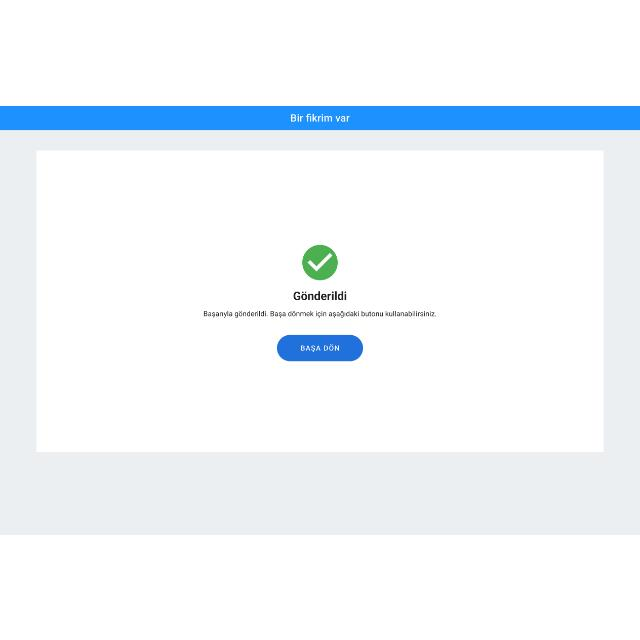QLabel: (202, 309, 438, 317), (292, 290, 348, 302), (288, 113, 350, 123), (298, 343, 340, 353)
VAppBar: (0, 105, 640, 128)
VBtn: (276, 334, 364, 361)
VCard: (36, 150, 604, 452)
VIcon: (300, 244, 338, 280)
